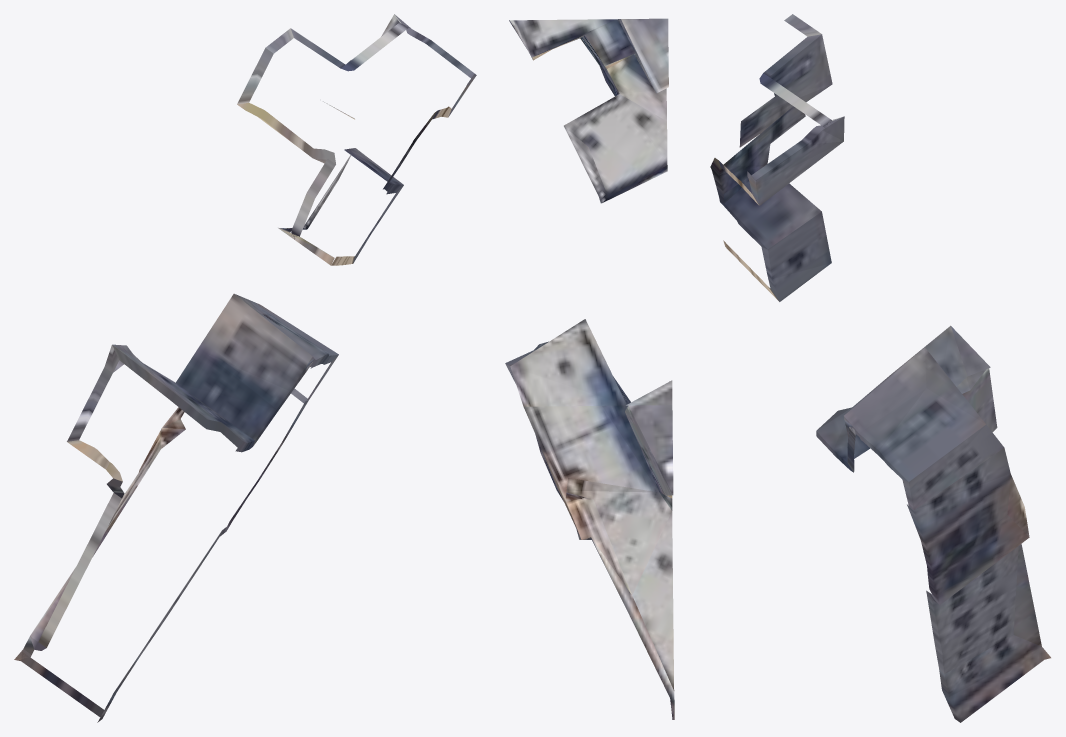
The picture shows the model from 3 angles, left to right: view 1: azimuth 30°, elevation 25°; view 2: azimuth 150°, elevation 25°; view 3: azimuth 270°, elevation 25°; orthographic projection. The views are drawn at different scales.
Bounding box in the file's own units: 32.76 × 68.59 × 28.19.
1 material, 1 textured.
